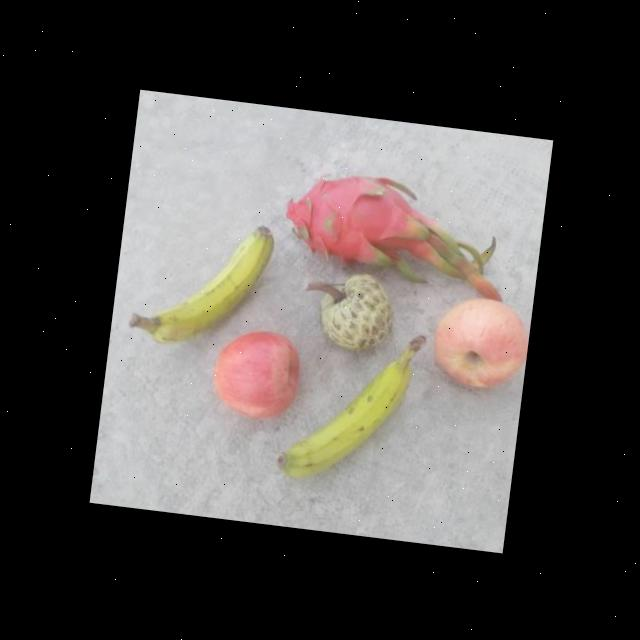Sakya fruit: (302, 265, 399, 354)
apple: (424, 291, 532, 392), (206, 322, 307, 427)
banana: (266, 316, 429, 492), (124, 207, 278, 355)
pitaya: (272, 154, 447, 278)
